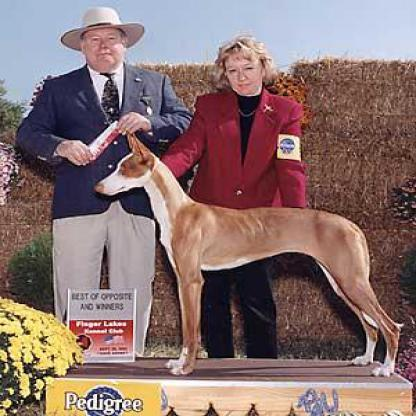dog: (102, 134, 406, 372)
